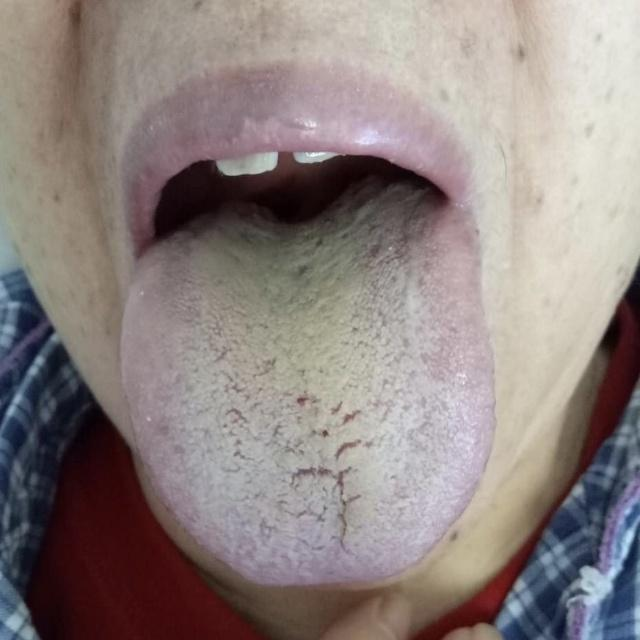huangtaishe: (119, 176, 497, 588)
liewenshe: (285, 436, 365, 548)
pangdashe: (118, 175, 496, 587)
shenquao: (236, 175, 369, 242)
